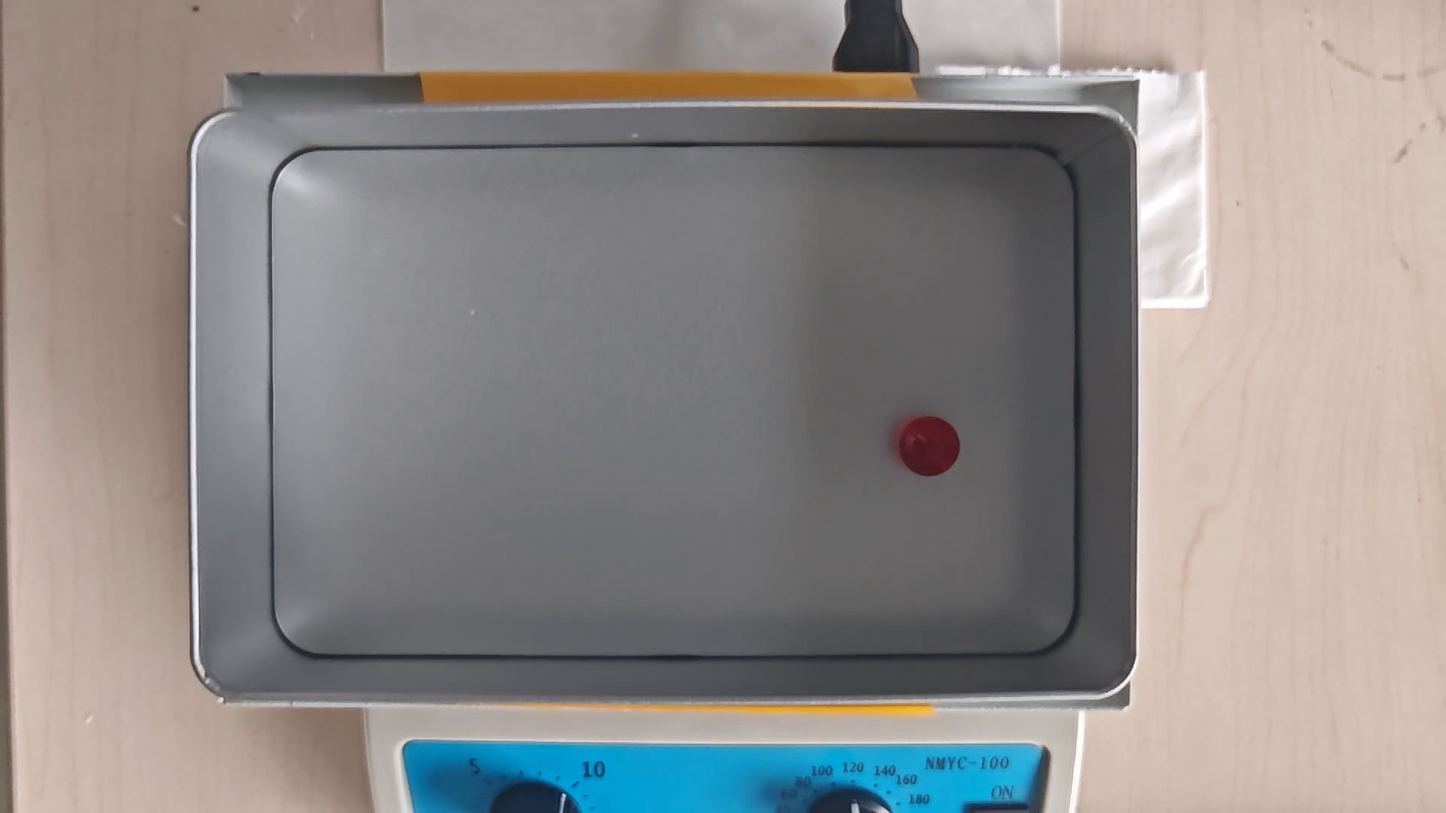ball: (901, 415, 960, 478)
container: (267, 147, 1076, 659)
